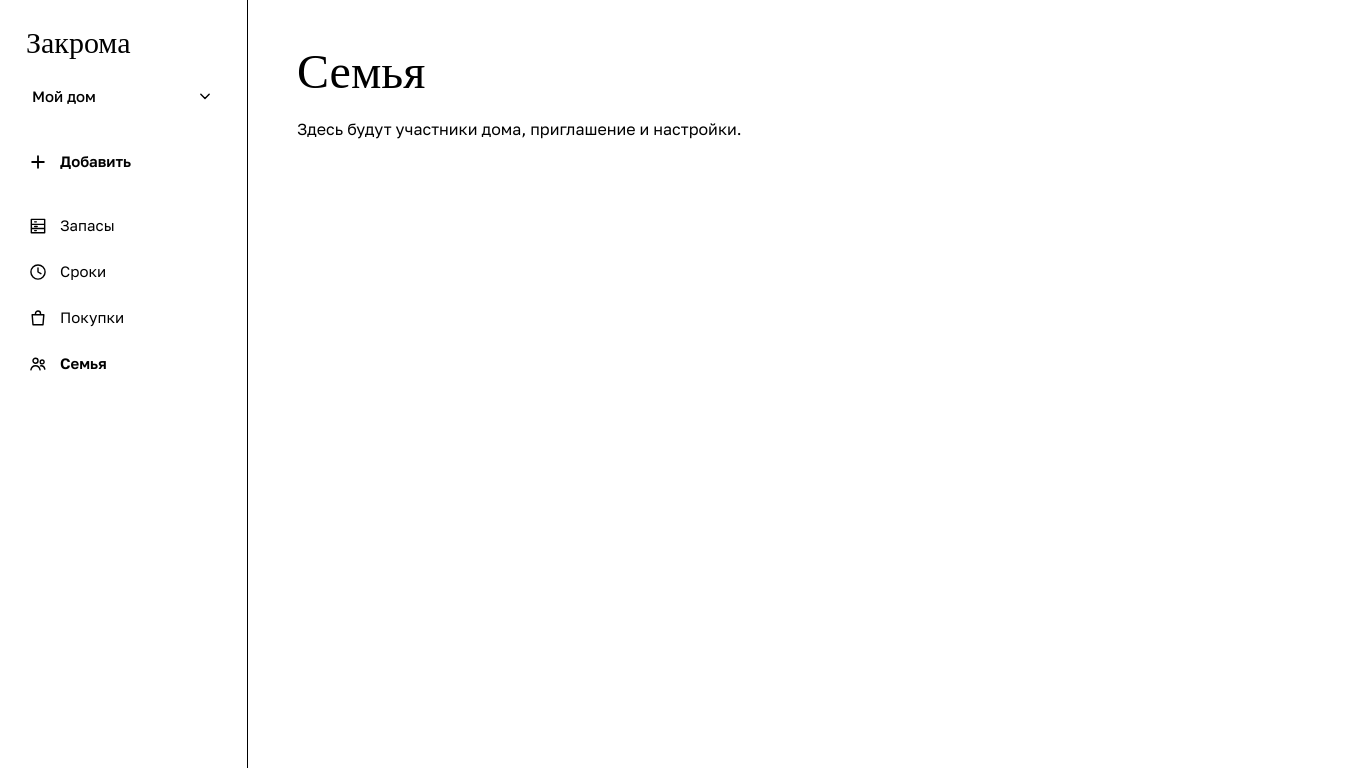
Test: app shell (AC-3) › opens «Покупки» and marks it as current
The width and height of the screenshot is (1366, 768).
Click the link "Покупки" at coordinates (76, 318), box [28,308,124,328]
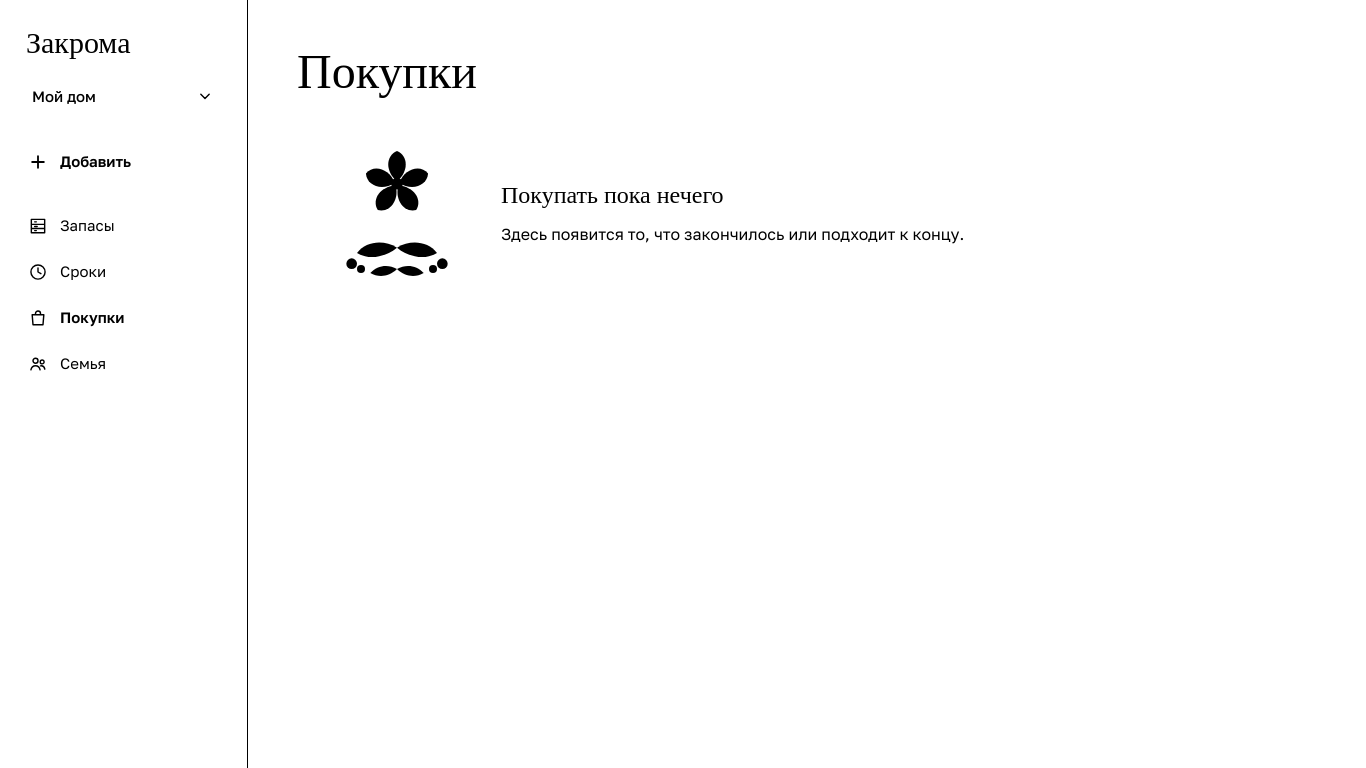
Expected: the heading "Покупки" is shown, [297,45,477,98]
